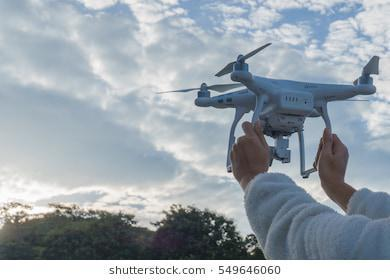drone: (144, 36, 387, 176)
